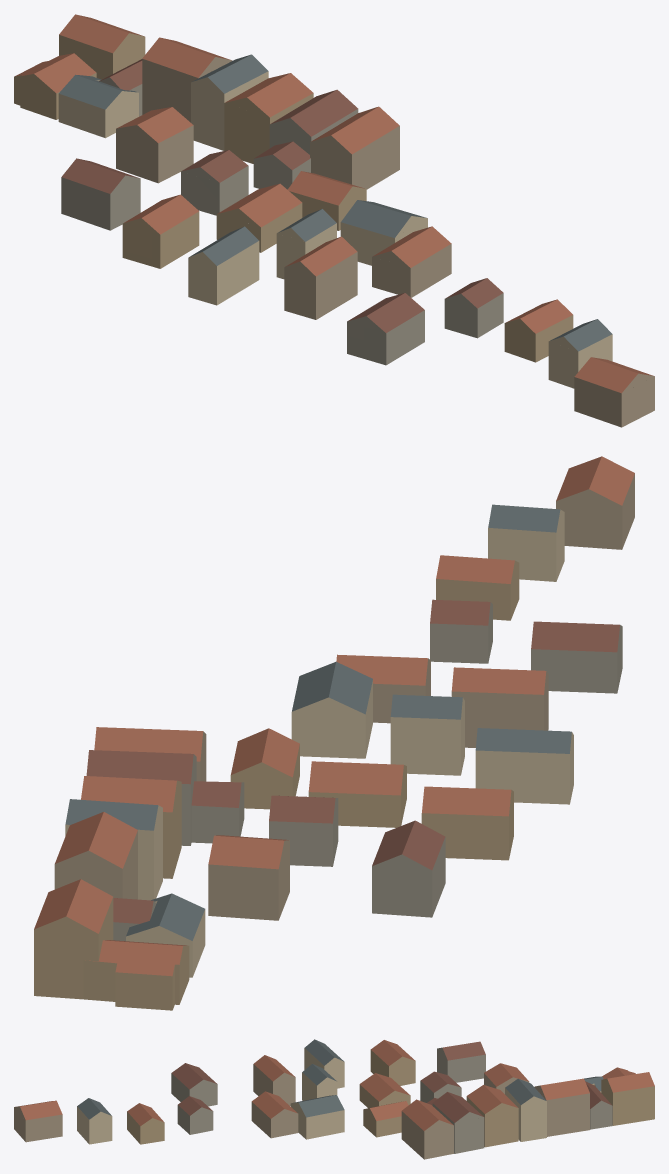
The picture shows the model from 3 angles, top to bottom: view 1: azimuth 30°, elevation 25°; view 2: azimuth 150°, elevation 25°; view 3: azimuth 270°, elevation 25°; orthographic projection. The views are drawn at different scales.
Visible parts, largest first — view 1: C_3_-2; view 2: C_3_-2; view 3: C_3_-2.
Part boxes in pixels (box(x1,y1,x2,y2)): C_3_-2: box(14, 14, 654, 427); C_3_-2: box(34, 456, 634, 1010); C_3_-2: box(14, 1039, 654, 1159).
Bounding box in the file's own units: 62.24 × 13.87 × 180.
